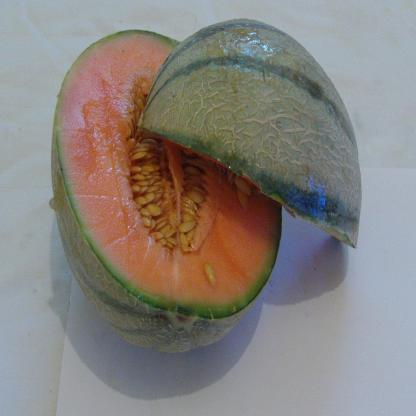Cantaloupe: (50, 27, 282, 355), (139, 19, 361, 252), (204, 192, 278, 314)
